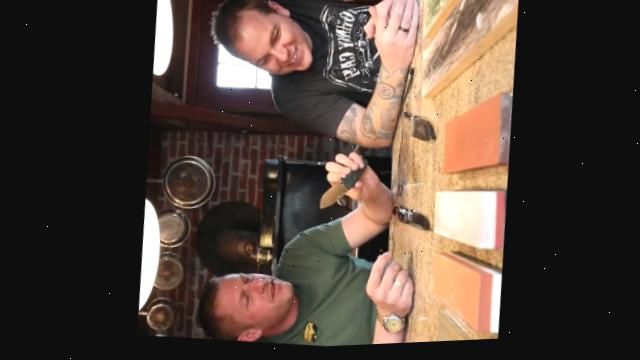pocket-knife: (309, 149, 370, 223)
